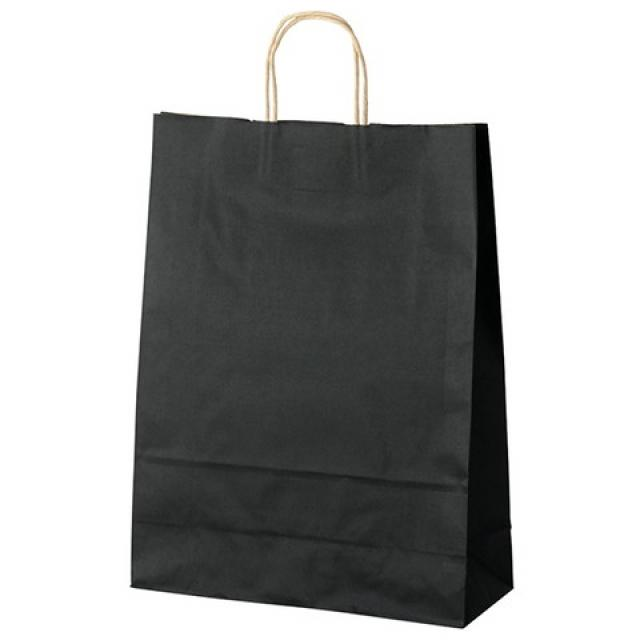paper bag: (124, 9, 517, 632)
